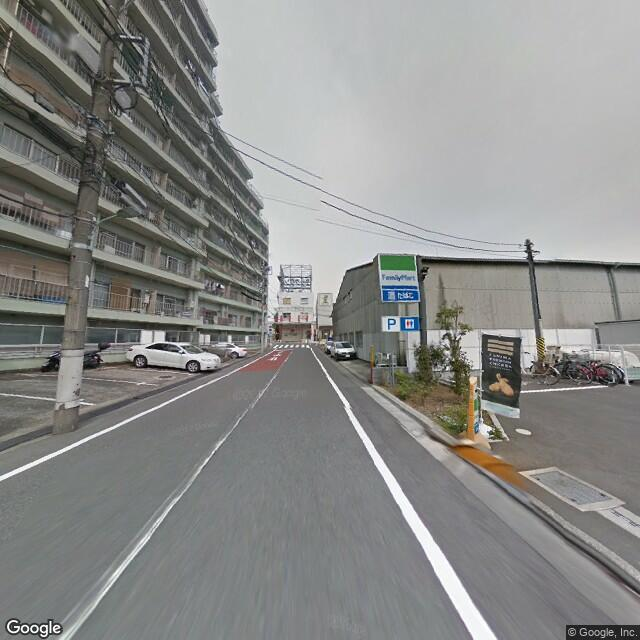family_mart: (377, 252, 417, 295)
